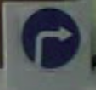right: (22, 8, 82, 69)
